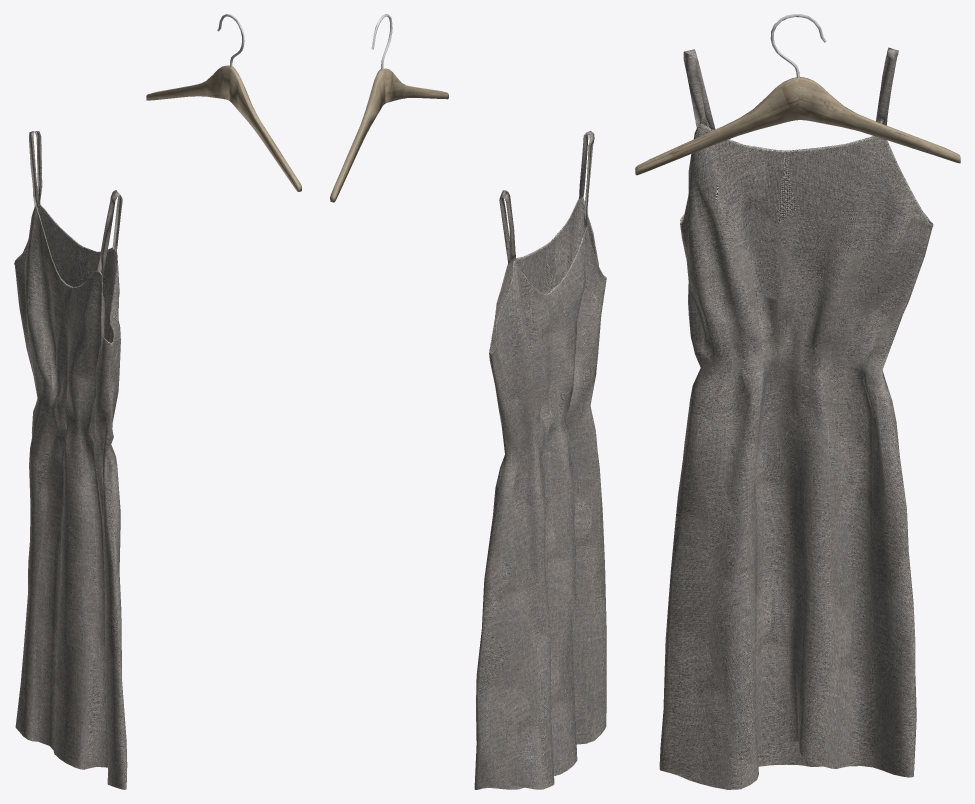
Rendered from rod-dress004.glb.
3 views of the same model, side by side, from view 1: azimuth 30°, elevation 25°; view 2: azimuth 150°, elevation 25°; view 3: azimuth 270°, elevation 25° (orthographic). The views are drawn at different scales.
Visible parts, largest first — view 1: dress004.001, Hangers_for_clothes121.001; view 2: dress004.001, Hangers_for_clothes121.001; view 3: dress004.001, Hangers_for_clothes121.001.
Part boxes in pixels (x1,y1,x2,y2): dress004.001: (14, 131, 127, 789); Hangers_for_clothes121.001: (146, 14, 301, 191); dress004.001: (474, 131, 606, 789); Hangers_for_clothes121.001: (330, 14, 448, 202); dress004.001: (659, 47, 933, 789); Hangers_for_clothes121.001: (635, 14, 960, 175).
Size of the model in its own units: 0.3302 by 1.15 by 0.3944.
3 materials, 2 textured.
